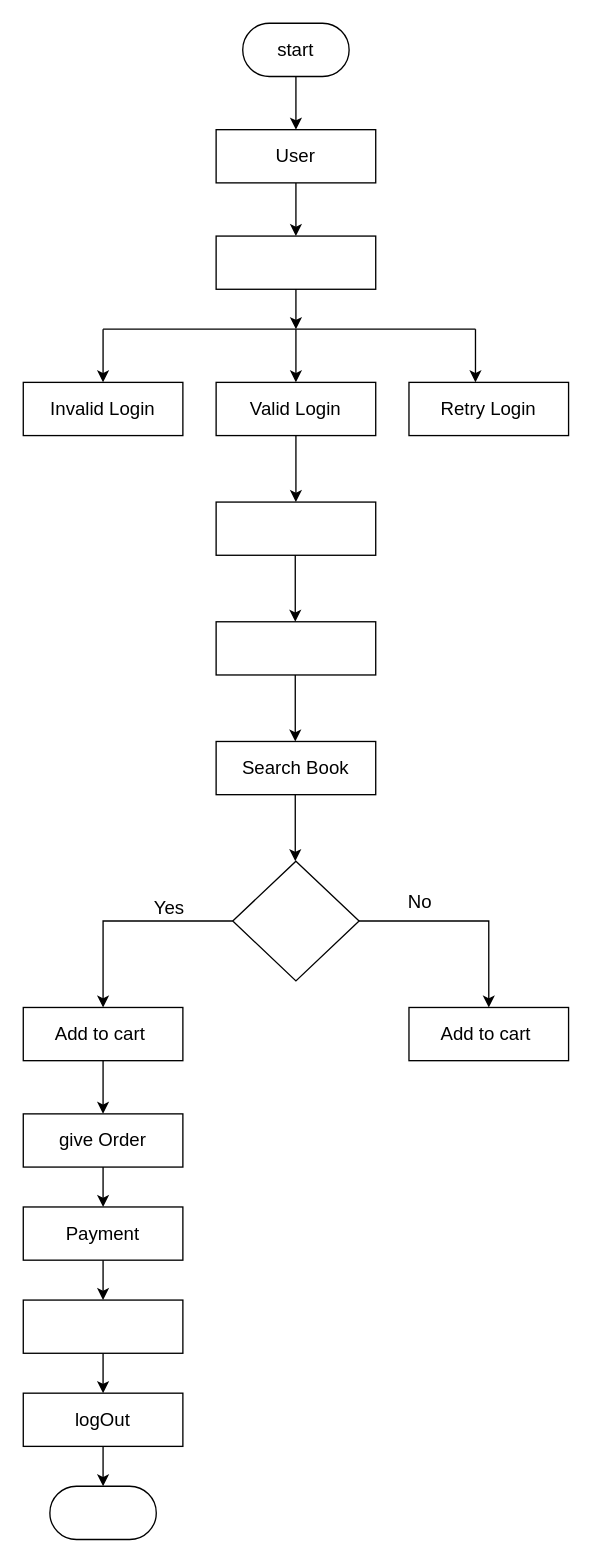
Image size: 592x1563. Some labels were removed from this diagram. Here are the shapes that lost their labels. From the top down, the centre of each, then its label:
At [295,262]: "Valid Credentials".
At [295,528]: "User Dashboard".
At [295,647]: "View Books".
At [295,920]: "Select Book".
At [102,1326]: "Feedback".
At [102,1512]: "End".
